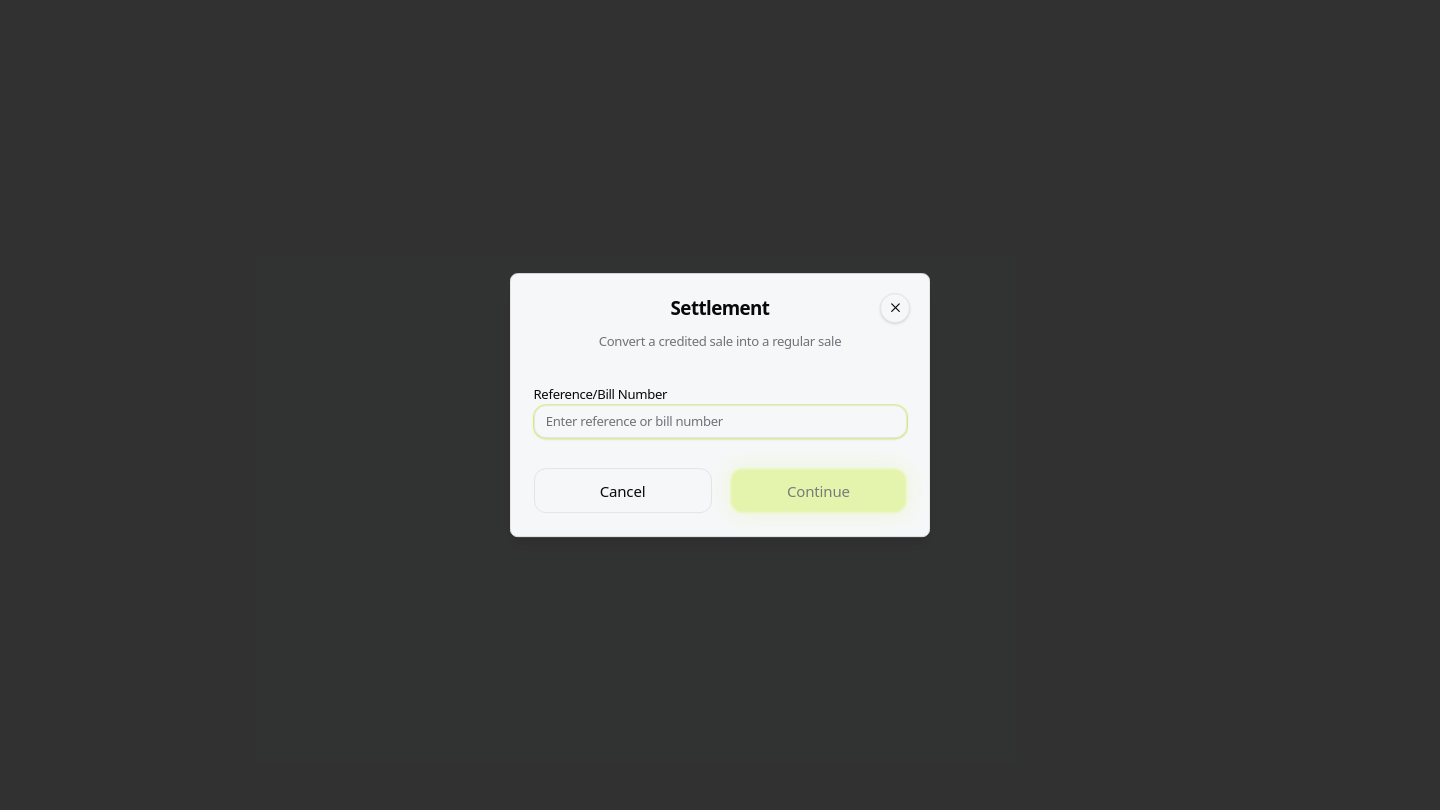
Test: SettlementDialog - settlement payment options › blocks mobile settlement until a recipient is picked
Type "A011230926" into the field with placeholder "Enter reference or bill number". click: (720, 422)
box: [534,405,906,438]
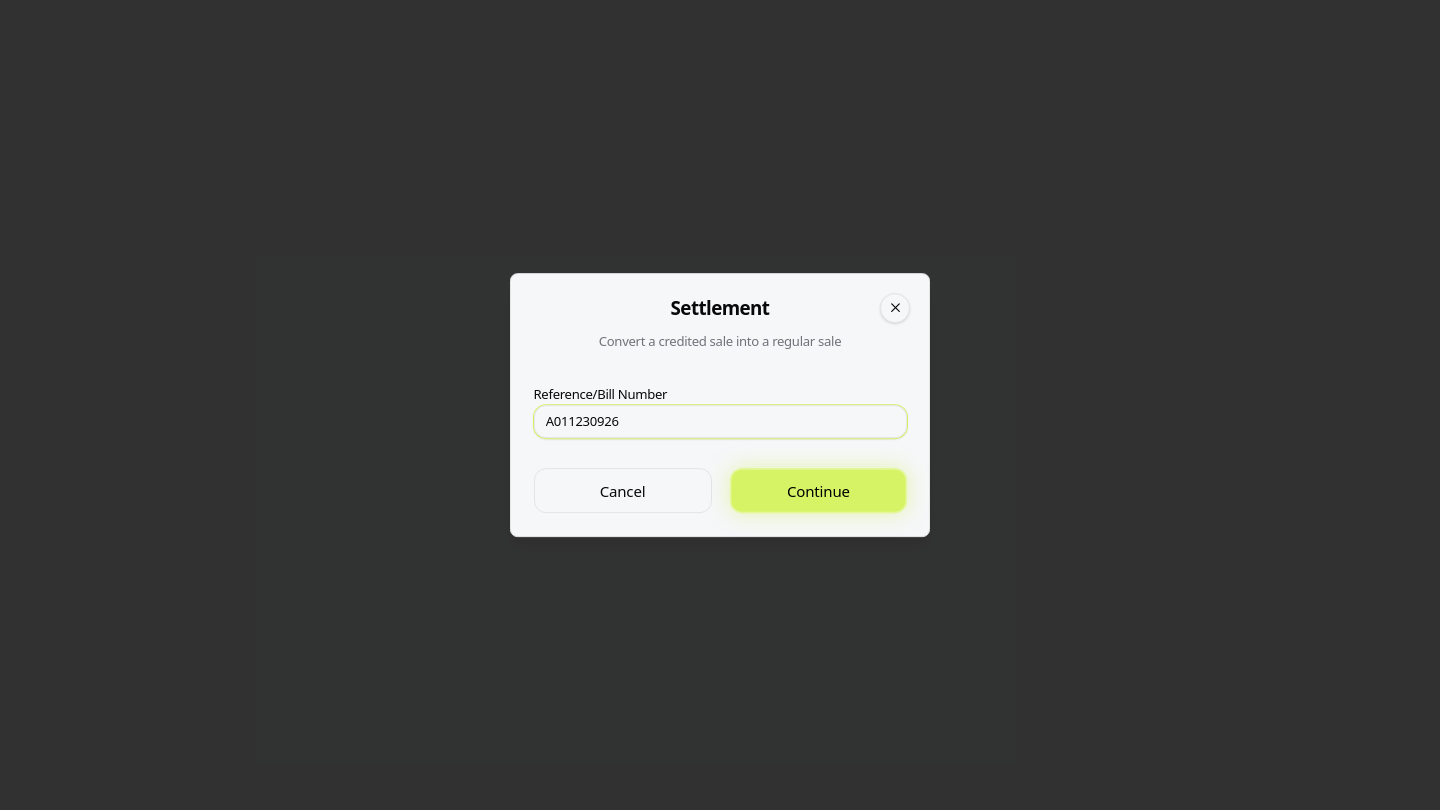
Click the button "Continue". click: (818, 491)
box: [730,468,906,513]
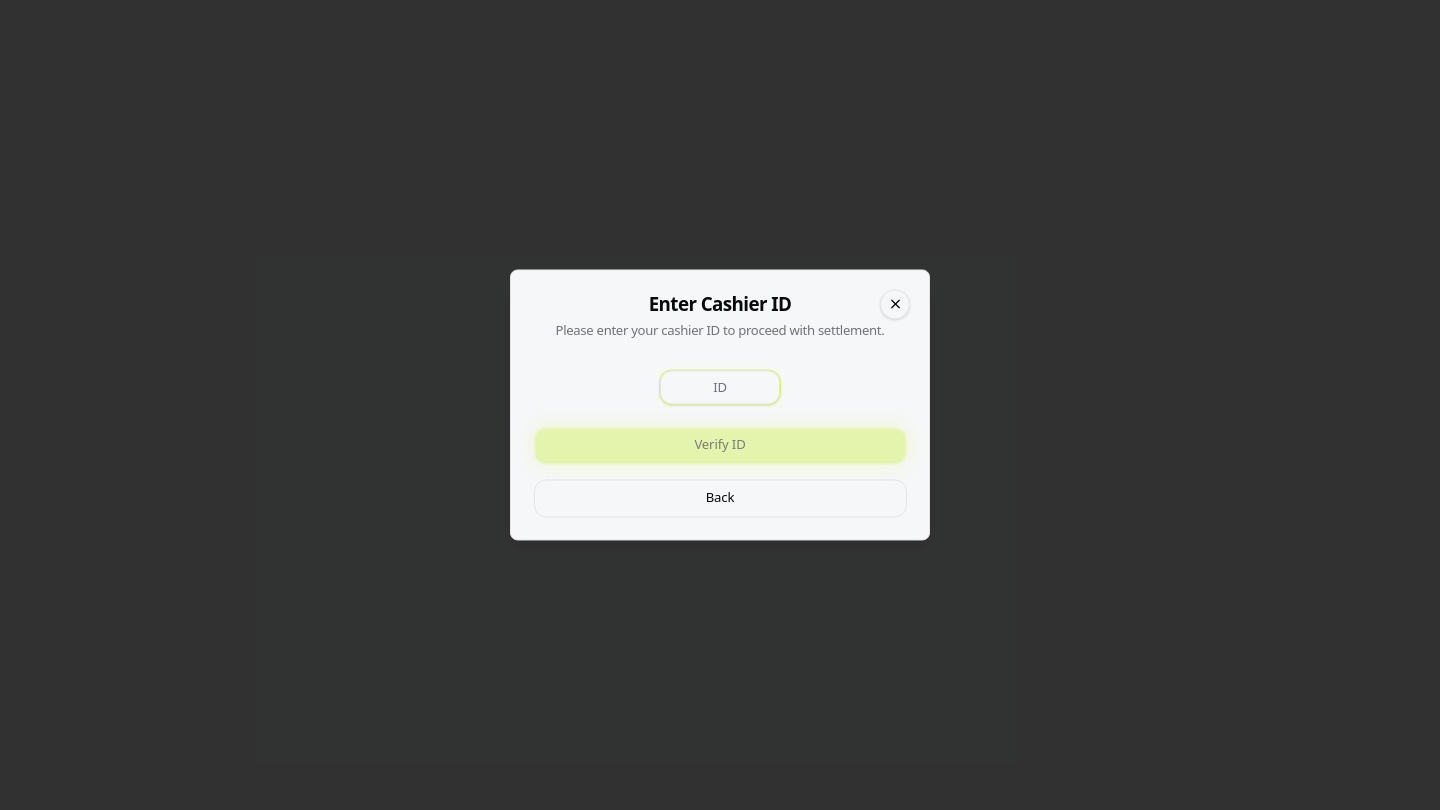
Type "0001" into the field with placeholder "ID". click: (720, 388)
box: [660,371,780,405]
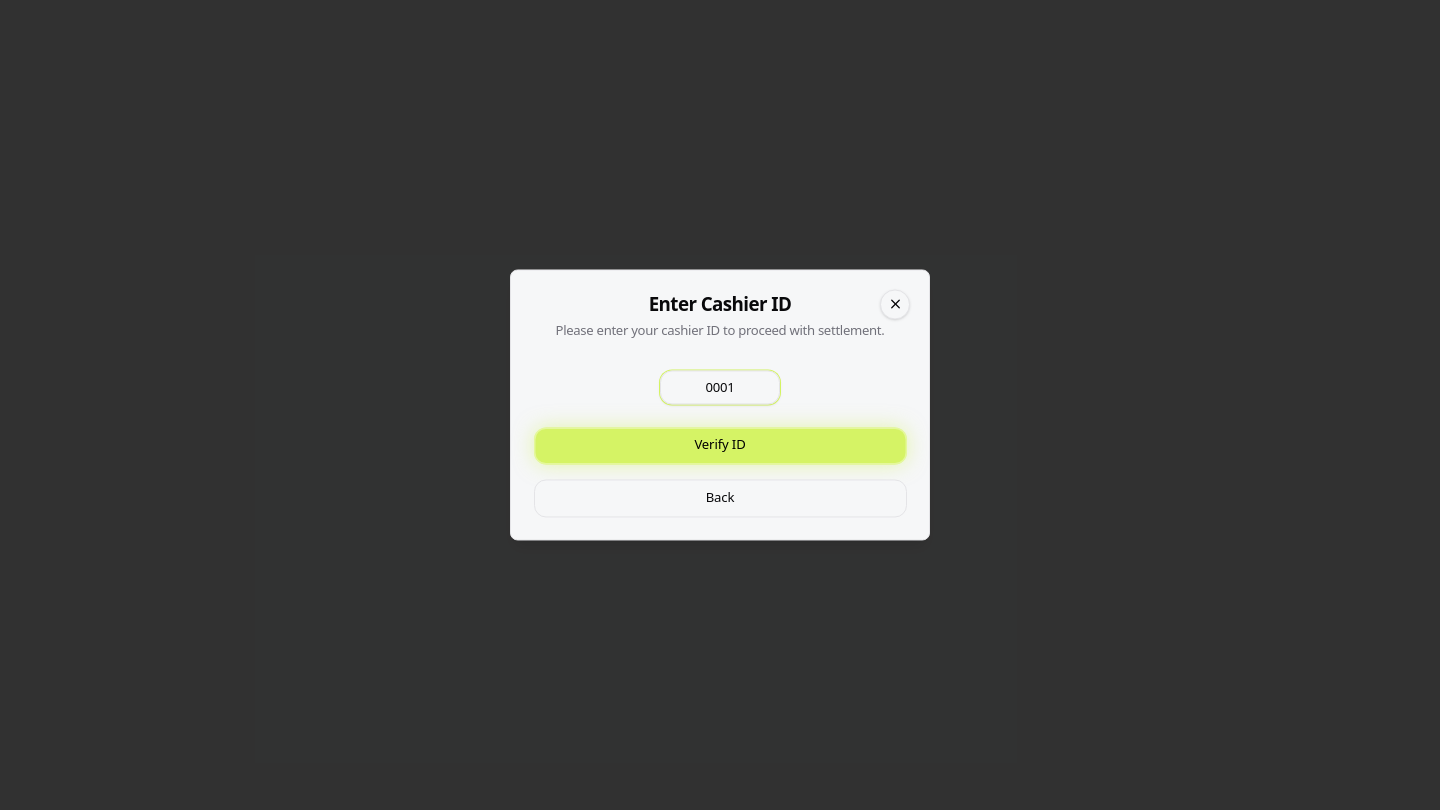
Click the button "Verify ID". click: (720, 446)
box: [534,427,906,464]
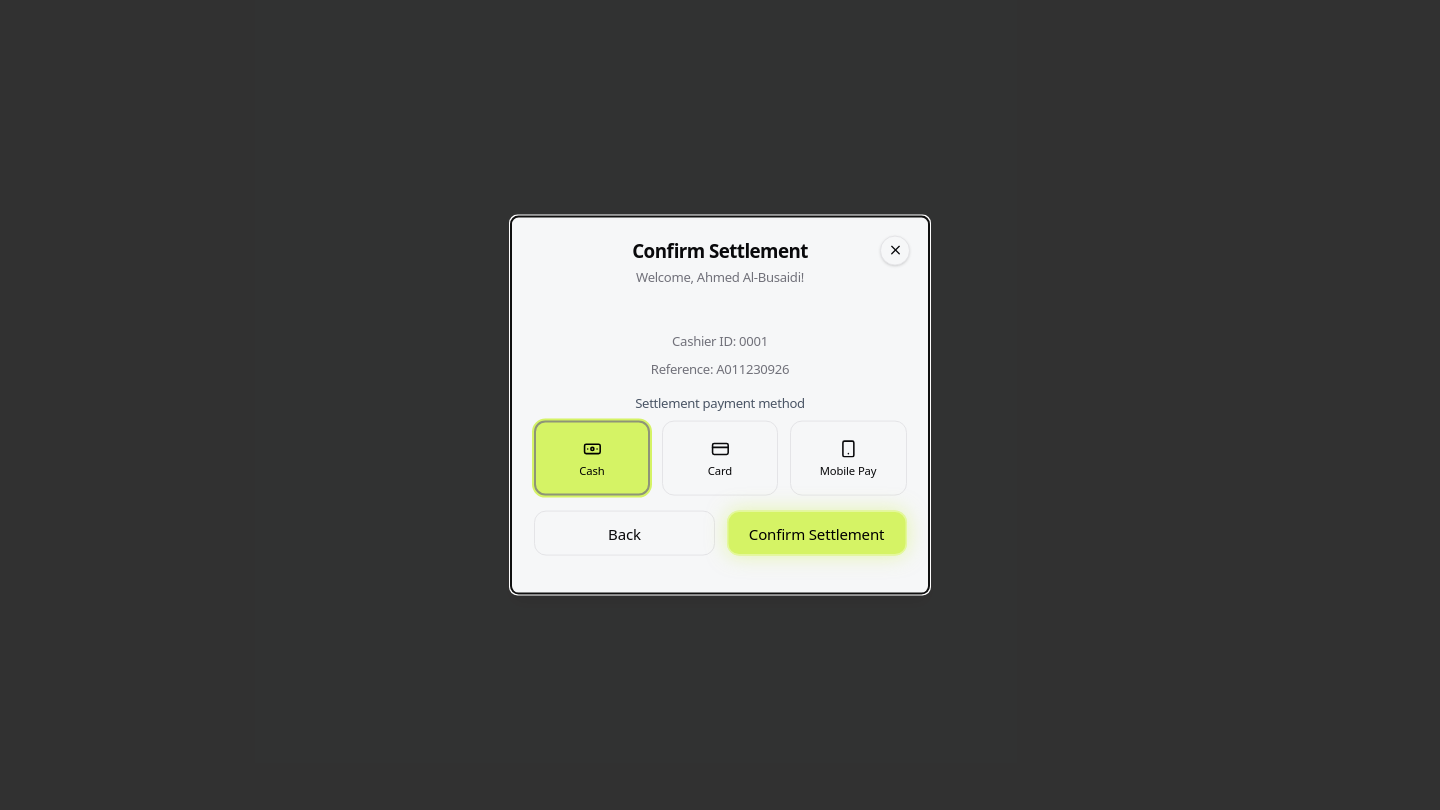
Result: the button "Confirm Settlement" is shown at [727,511,906,556]
Click the radio button labelled "Mobile Pay". click: (848, 458)
box: [790,421,906,496]
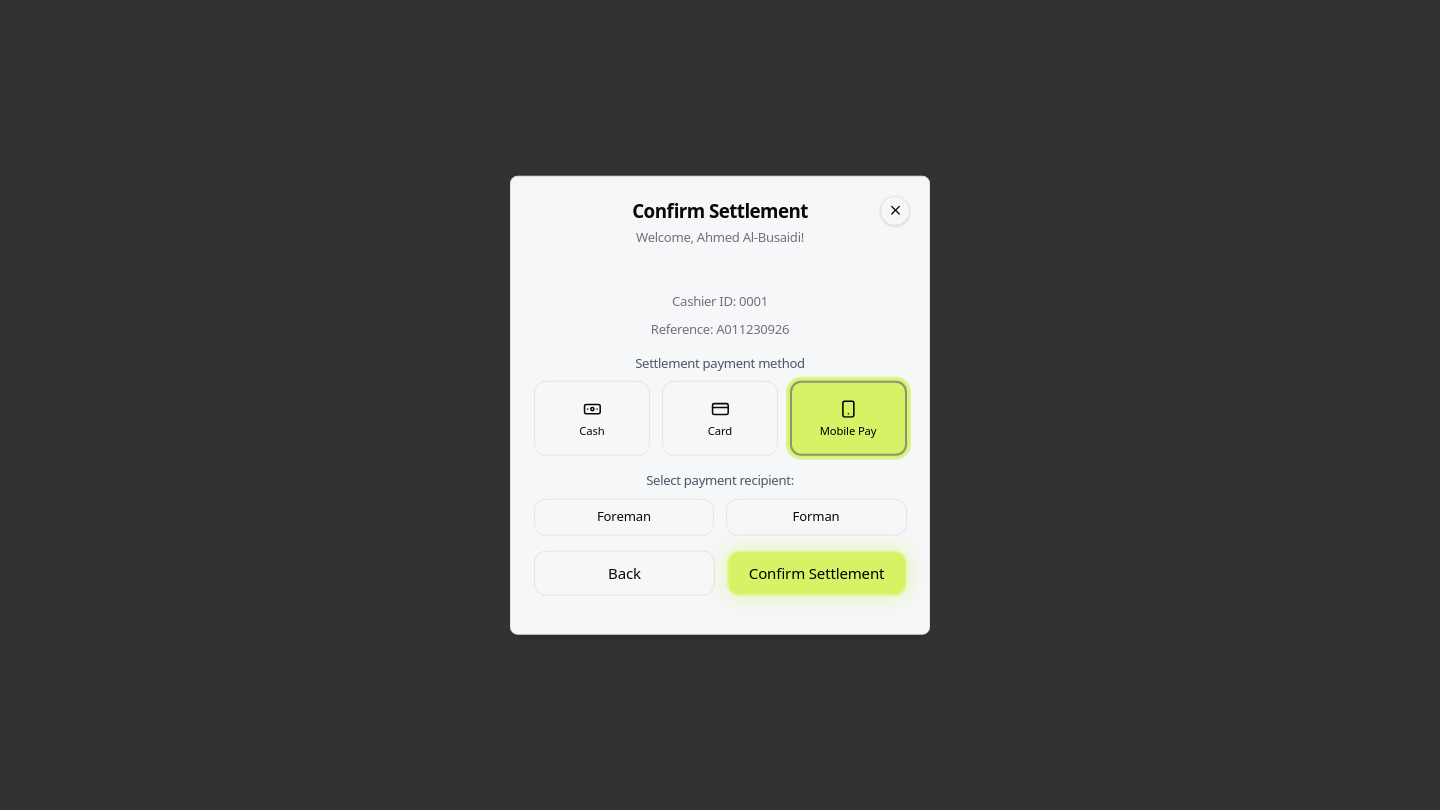
Click the button "Confirm Settlement". click: (817, 573)
box: [727,551,906,596]
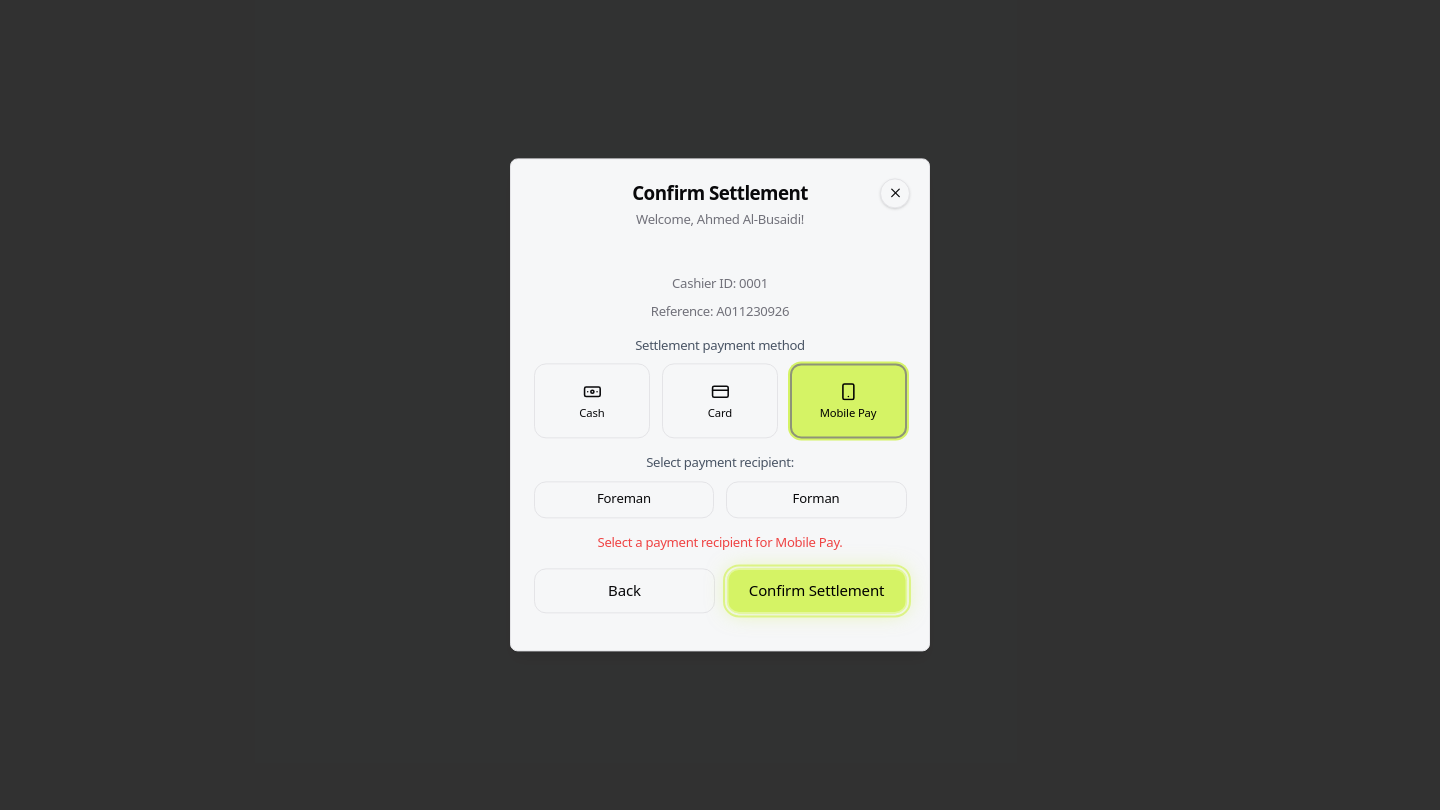
Result: the message "Select a payment recipient for Mobile Pay." is shown at [598,533,842,553]
